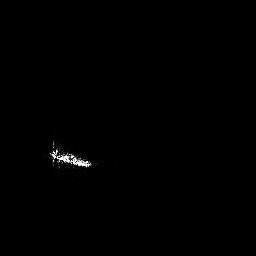ship: (46, 136, 94, 172)
